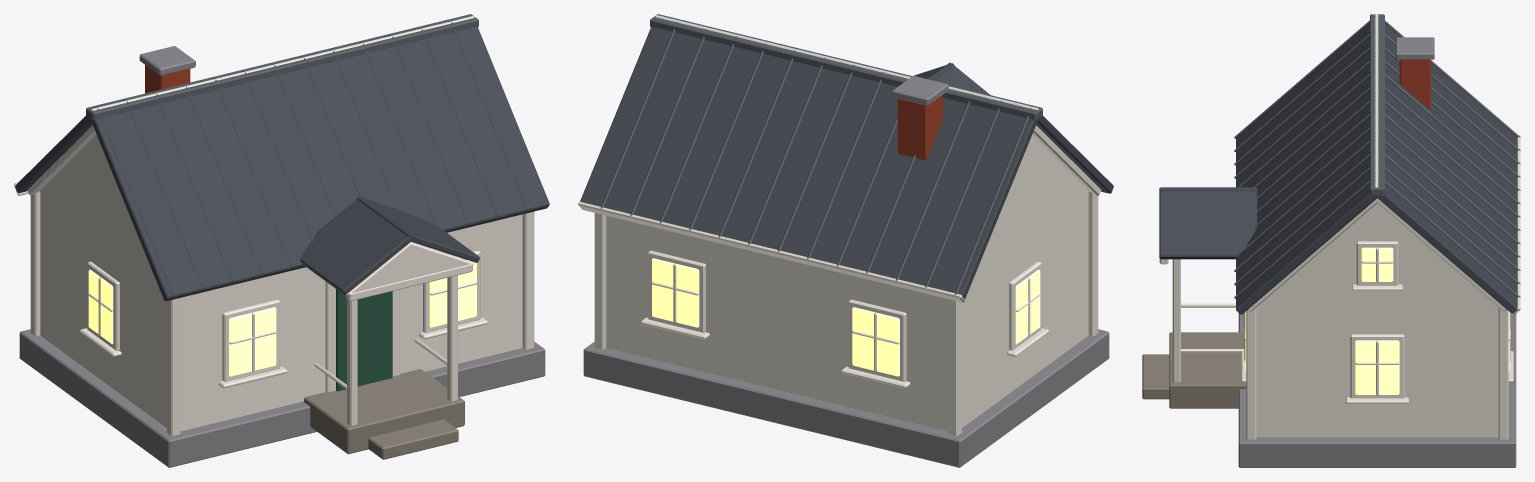
File: vitstuga.glb
The picture shows the model from 3 angles, left to right: view 1: azimuth 30°, elevation 25°; view 2: azimuth 150°, elevation 25°; view 3: azimuth 270°, elevation 25°; orthographic projection. The views are drawn at different scales.
Parts seen in each view (by area): view 1: vitstuga; view 2: vitstuga; view 3: vitstuga.
Boxes of the visible parts, left/top/right/bottom form: vitstuga: left=14, top=14, right=549, bottom=467; vitstuga: left=578, top=14, right=1113, bottom=467; vitstuga: left=1142, top=14, right=1520, bottom=467.
Bounding box in the file's own units: 6.55 × 5.16 × 5.99.
